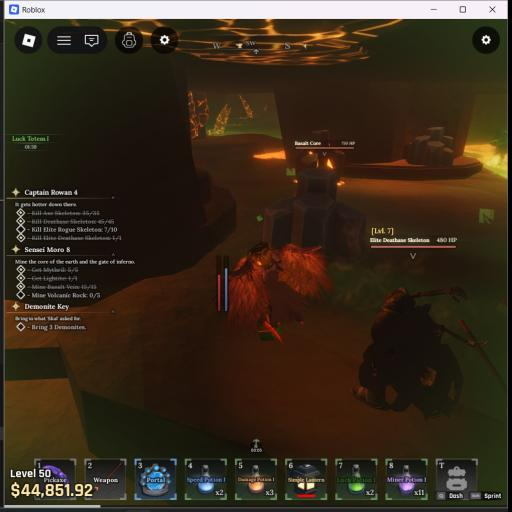player: (227, 242, 333, 341)
rock: (261, 167, 365, 262), (406, 127, 453, 167)
